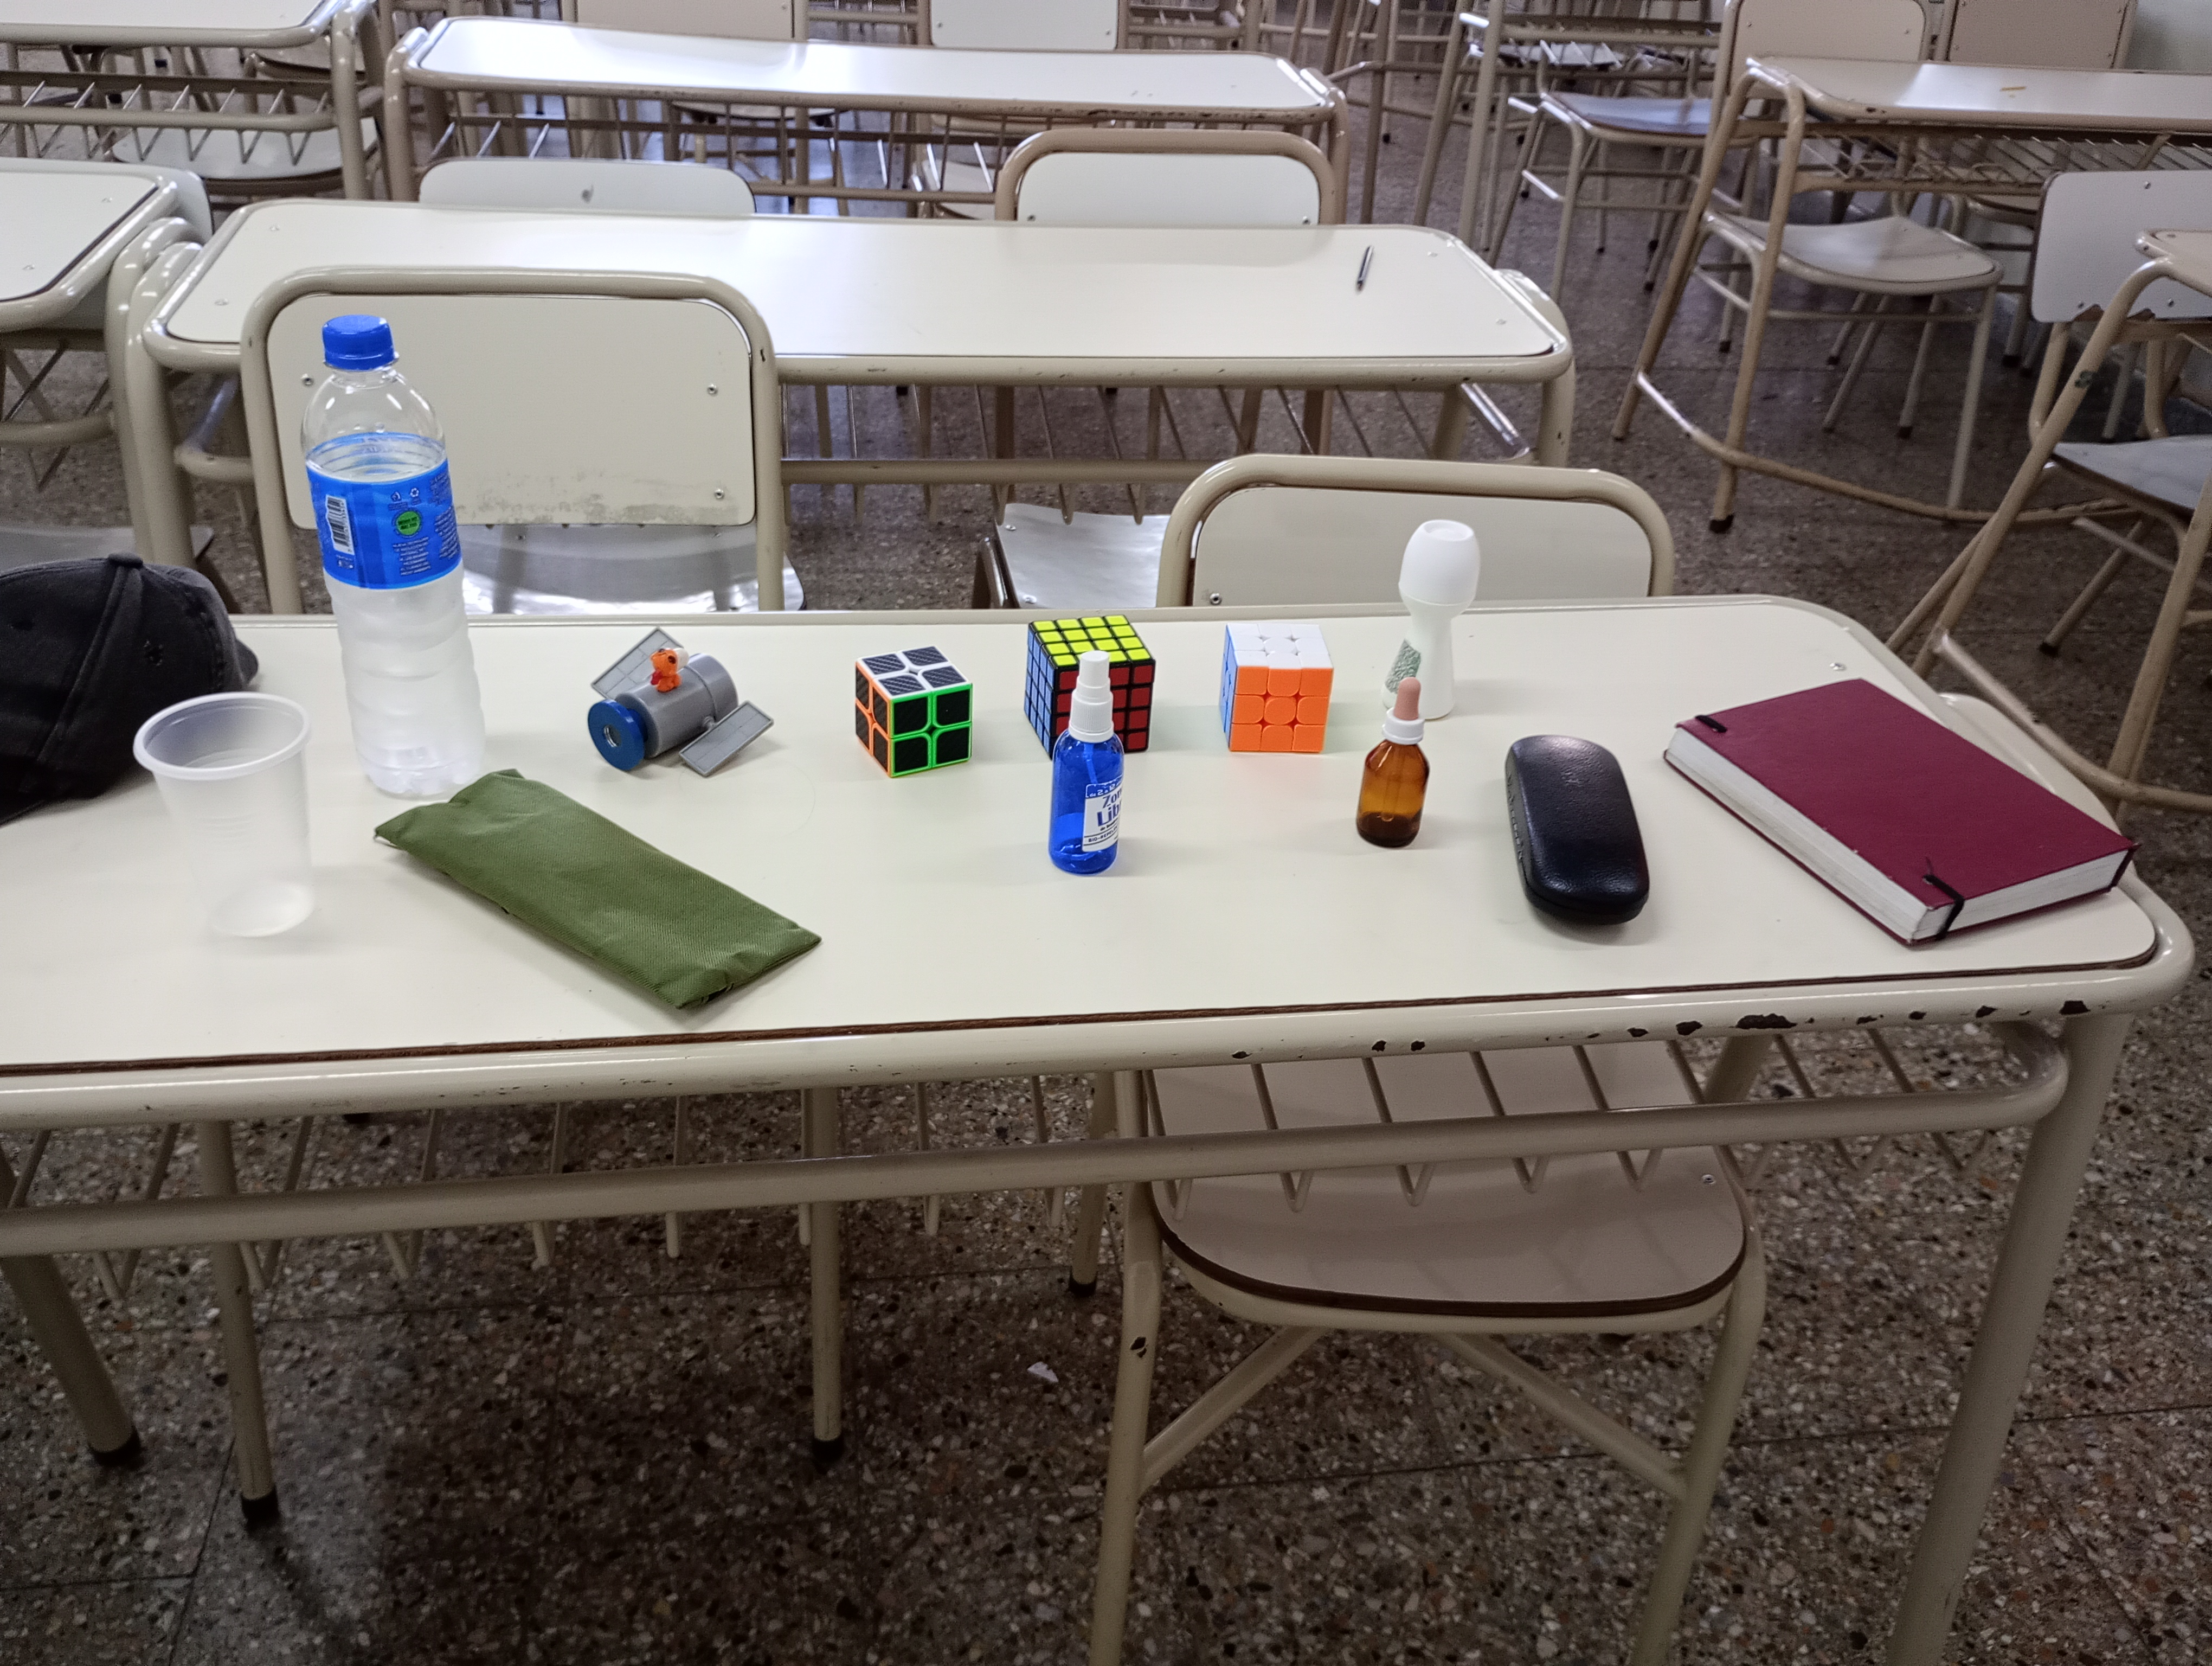remedio: (1341, 672, 1446, 854)
